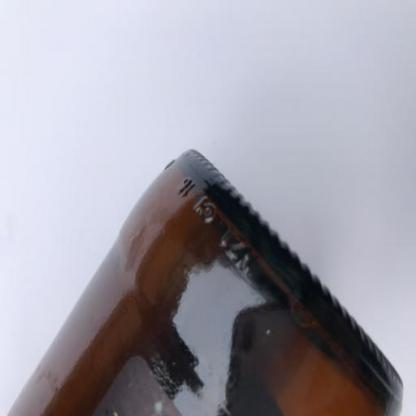trash: (2, 145, 402, 414)
